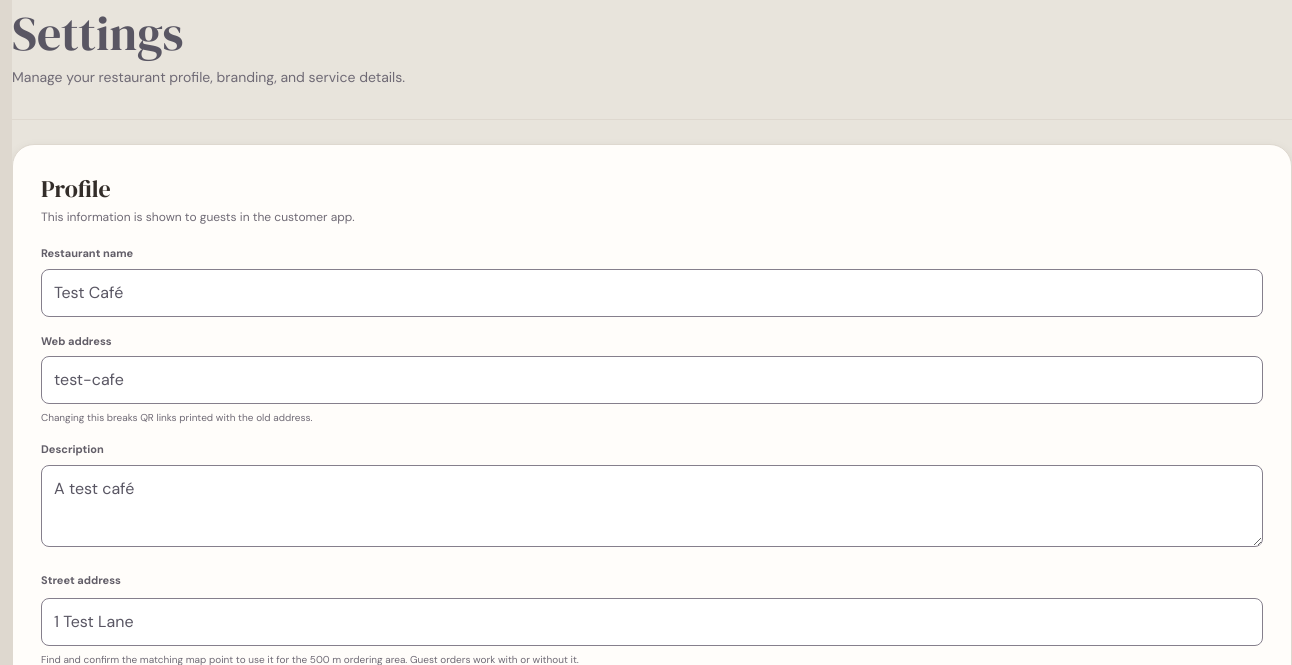
Scenario: SettingsPage › warns when the address changes after a map point was chosen
expect the text "the street address changed after this map point" is not shown: met
Replace the text in the field with placeholder "12 Harbour Lane, Sydney NSW" with "2 Other Street" at (652, 622), box [41,598,1263,646]
(page scrolled)
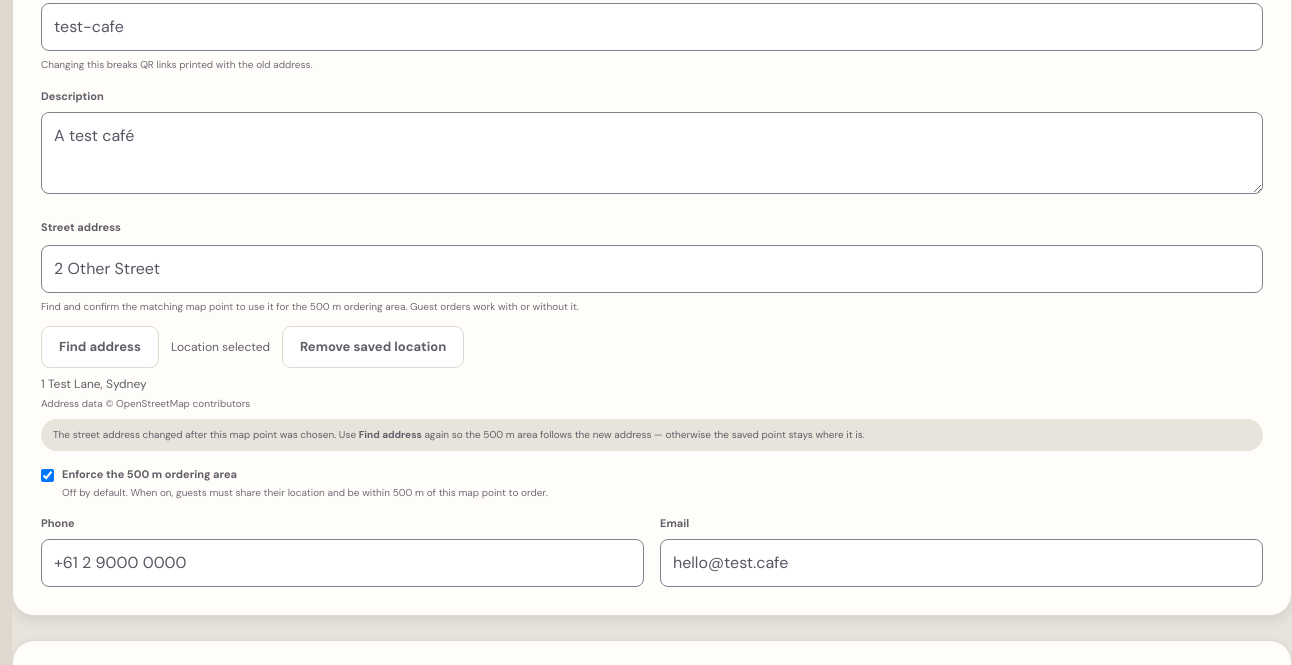
expect the text "The street address changed after this map point" is shown: met, box [53,428,359,441]
Click the button "Find address" at (100, 347), box [41,326,159,368]
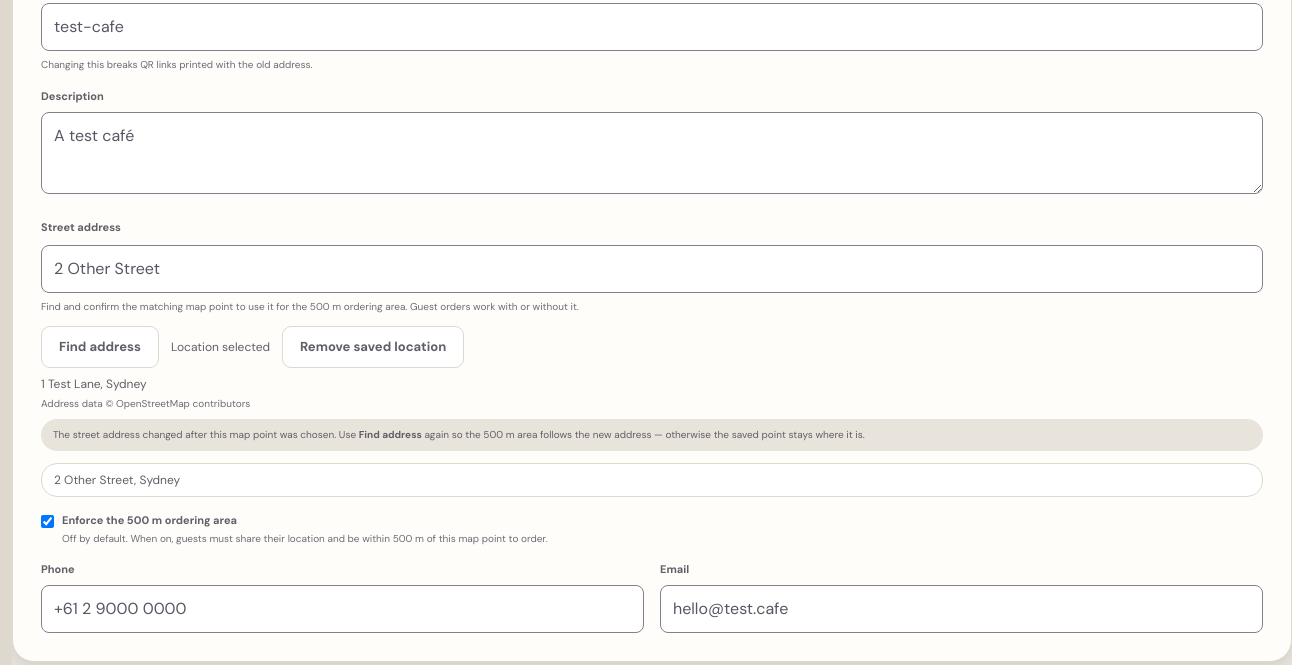
Click the button "2 Other Street, Sydney" at (117, 480), box [41,463,1263,497]
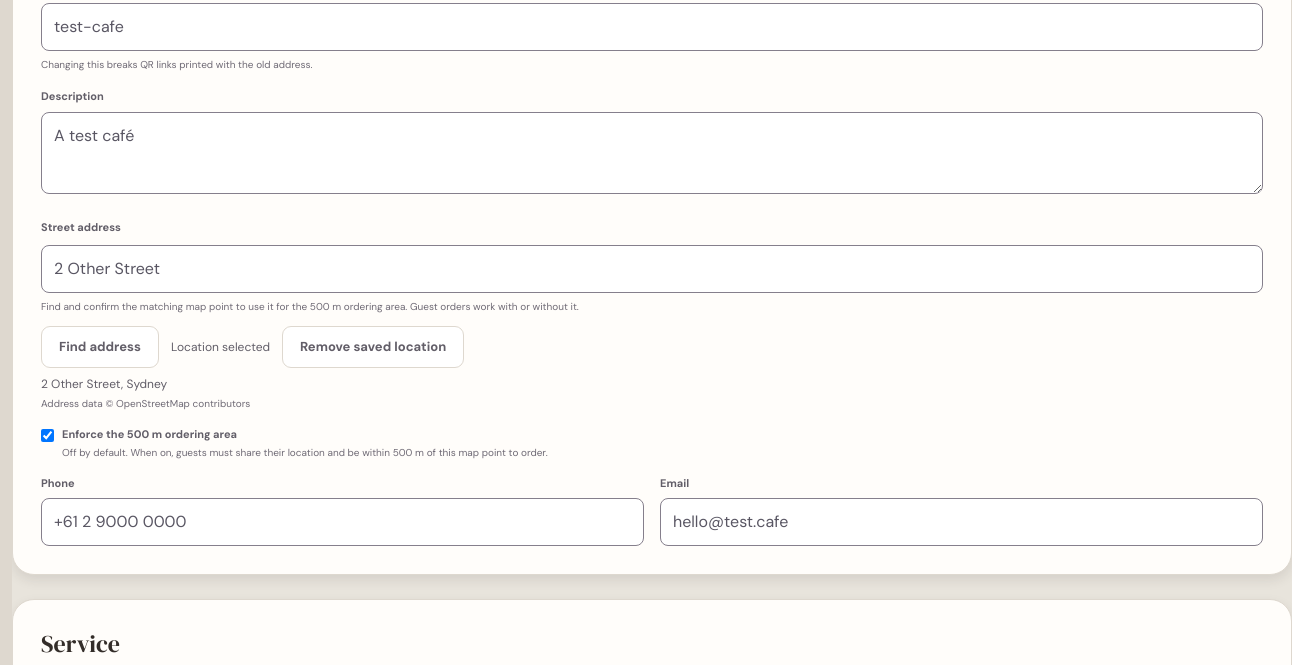
expect the text "The street address changed after this map point" is gone: met
